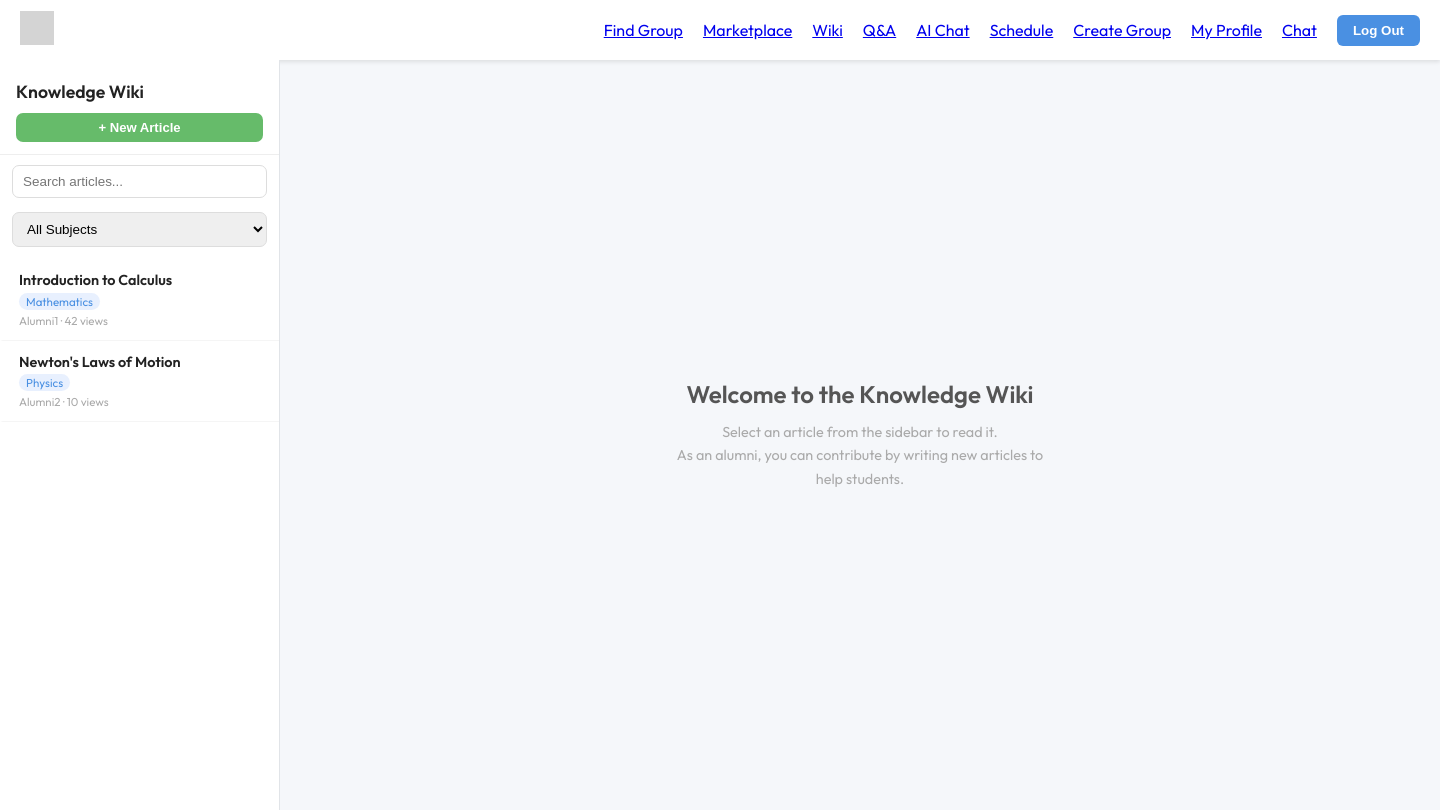
Test: Wiki page › New Article form appears when button clicked
Click the button "+ New Article". click: (140, 128)
box: [16,113,263,142]
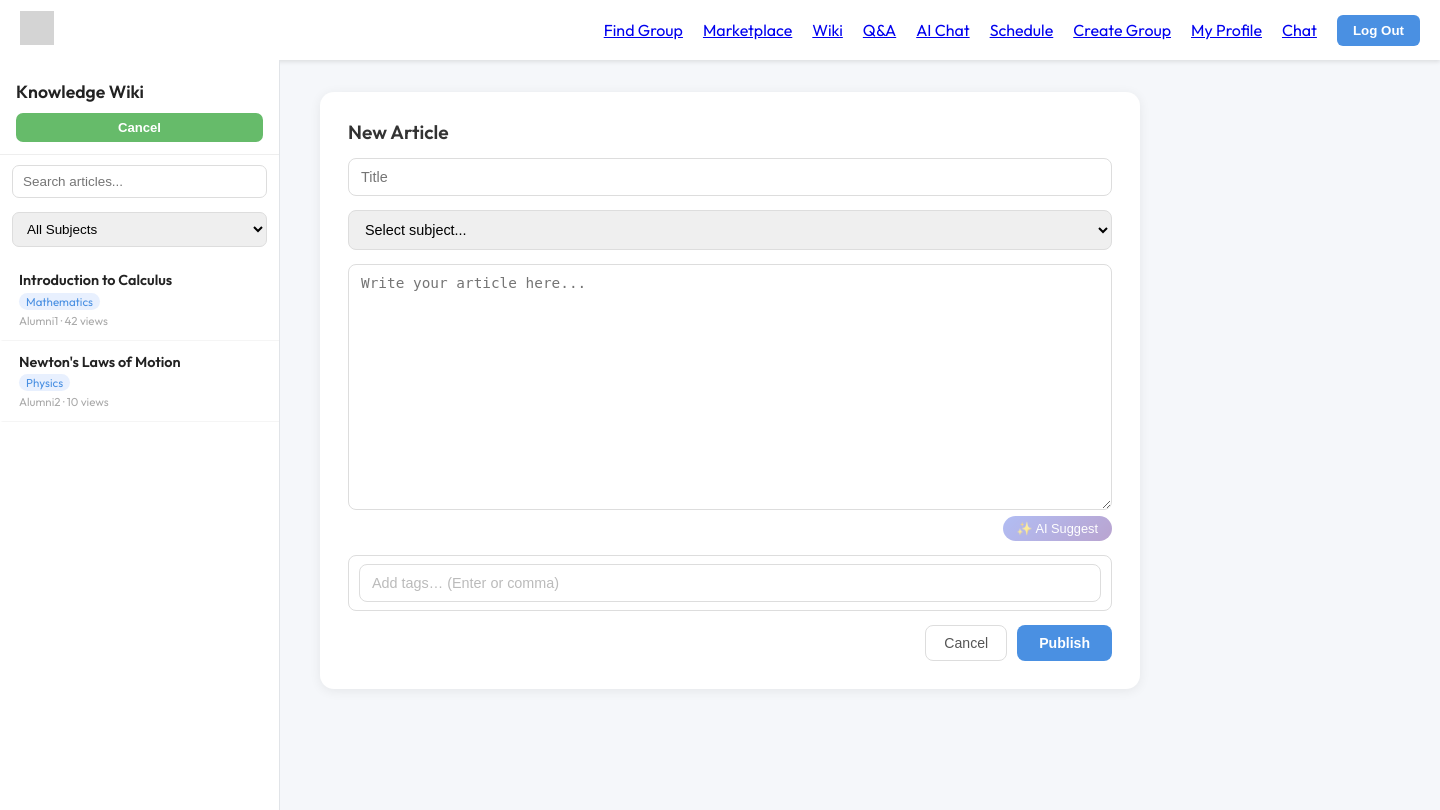
Now the field with placeholder "Title" is shown, box [348,158,1112,196]
Now the text box with placeholder "Write your article here..." is shown, box [348,264,1112,510]
